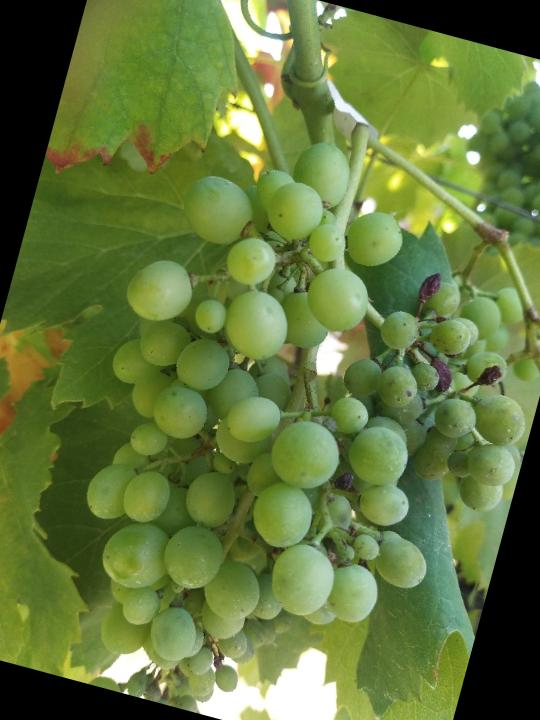grape: (27, 95, 540, 720)
